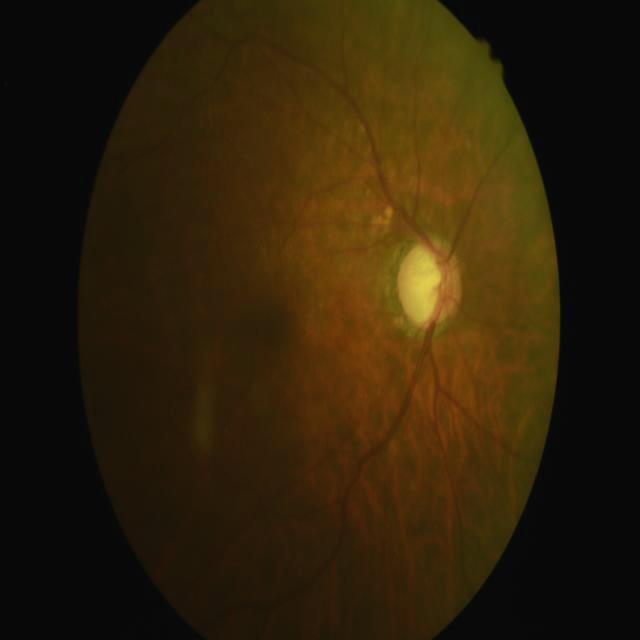cup: (400, 245, 448, 323)
disk: (396, 238, 461, 328)
